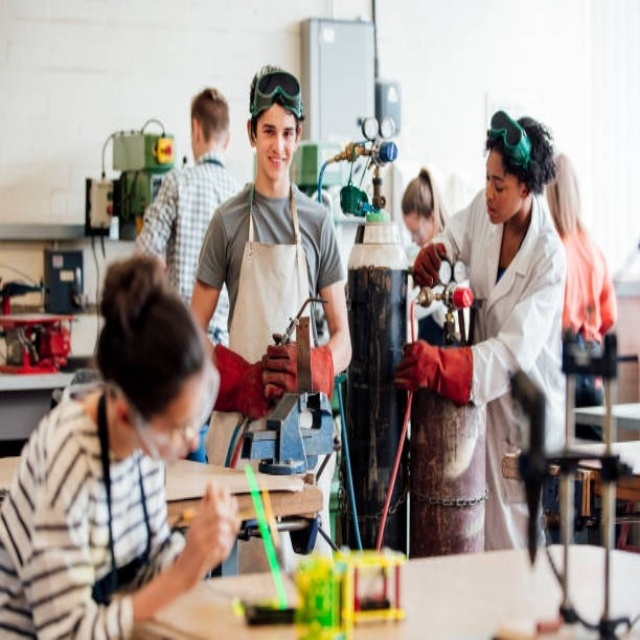Gafas: (105, 355, 223, 466)
Guantes: (260, 333, 335, 405), (394, 340, 472, 404), (211, 345, 267, 418), (412, 241, 450, 288)
Sin_gafas: (485, 166, 515, 201), (259, 118, 297, 141)
Sin_guantes: (176, 477, 243, 580)
Sin_mascara: (261, 149, 288, 179), (485, 199, 505, 221)
